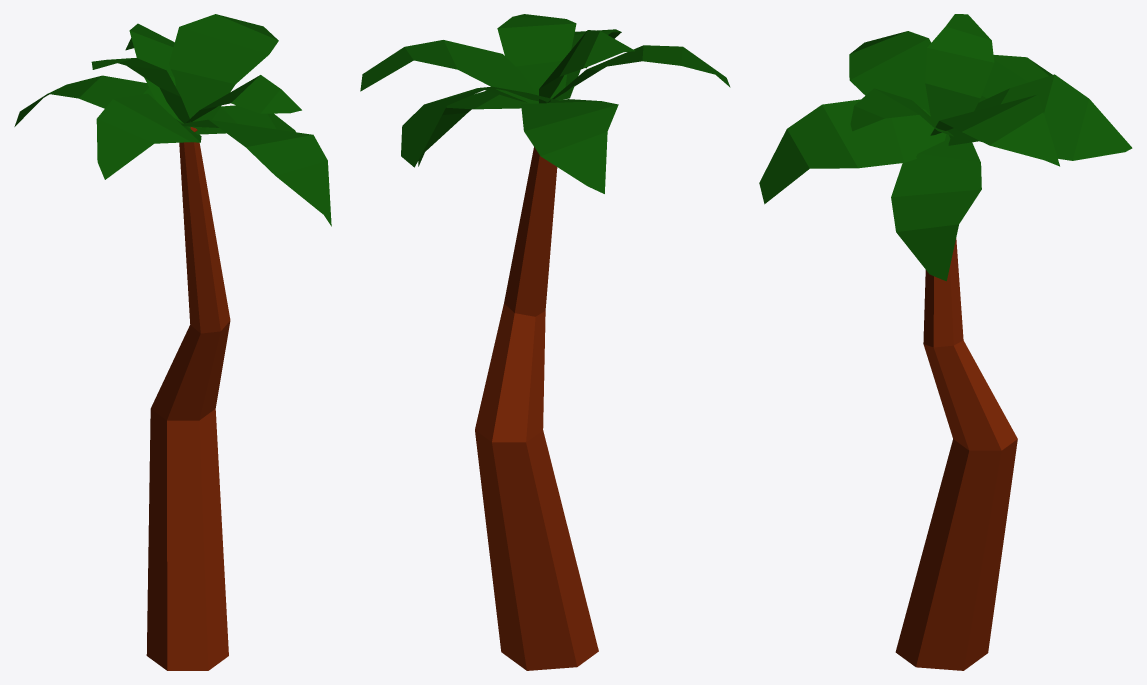
The model's file is tree_palm3.glb.
The picture shows the model from 3 angles, left to right: view 1: azimuth 30°, elevation 25°; view 2: azimuth 150°, elevation 25°; view 3: azimuth 270°, elevation 25°; orthographic projection. The views are drawn at different scales.
Parts seen in each view (by area): view 1: Cylinder.035, Cylinder.042, Cylinder.039, Cylinder.040, Cylinder.043, Cylinder.036, Cylinder.037, Cylinder.041, Cylinder.038; view 2: Cylinder.035, Cylinder.036, Cylinder.042, Cylinder.043, Cylinder.037, Cylinder.041, Cylinder.040, Cylinder.038; view 3: Cylinder.035, Cylinder.039, Cylinder.038, Cylinder.037, Cylinder.041, Cylinder.040, Cylinder.042, Cylinder.043, Cylinder.036.
Part boxes in pixels (box(x1,y1,x2,y2)): Cylinder.035: box(146, 127, 230, 670); Cylinder.042: box(169, 14, 278, 130); Cylinder.039: box(181, 119, 331, 226); Cylinder.040: box(96, 93, 201, 179); Cylinder.043: box(186, 75, 301, 122); Cylinder.036: box(14, 75, 155, 126); Cylinder.037: box(125, 23, 183, 123); Cylinder.041: box(91, 58, 190, 123); Cylinder.038: box(187, 105, 295, 134); Cylinder.035: box(475, 147, 598, 670); Cylinder.036: box(521, 99, 618, 193); Cylinder.042: box(360, 40, 538, 103); Cylinder.043: box(497, 14, 576, 100); Cylinder.037: box(401, 86, 559, 167); Cylinder.041: box(539, 30, 635, 103); Cylinder.040: box(547, 45, 730, 102); Cylinder.038: box(418, 91, 529, 166); Cylinder.035: box(895, 238, 1017, 670); Cylinder.039: box(759, 99, 946, 204); Cylinder.038: box(891, 134, 981, 281); Cylinder.037: box(947, 74, 1132, 160); Cylinder.041: box(925, 14, 994, 123); Cylinder.040: box(849, 31, 931, 114); Cylinder.042: box(930, 94, 1059, 166); Cylinder.043: box(850, 88, 953, 136); Cylinder.036: box(978, 55, 1052, 102).
Bounding box in the file's own units: 0.6841 × 1.54 × 0.8669.
